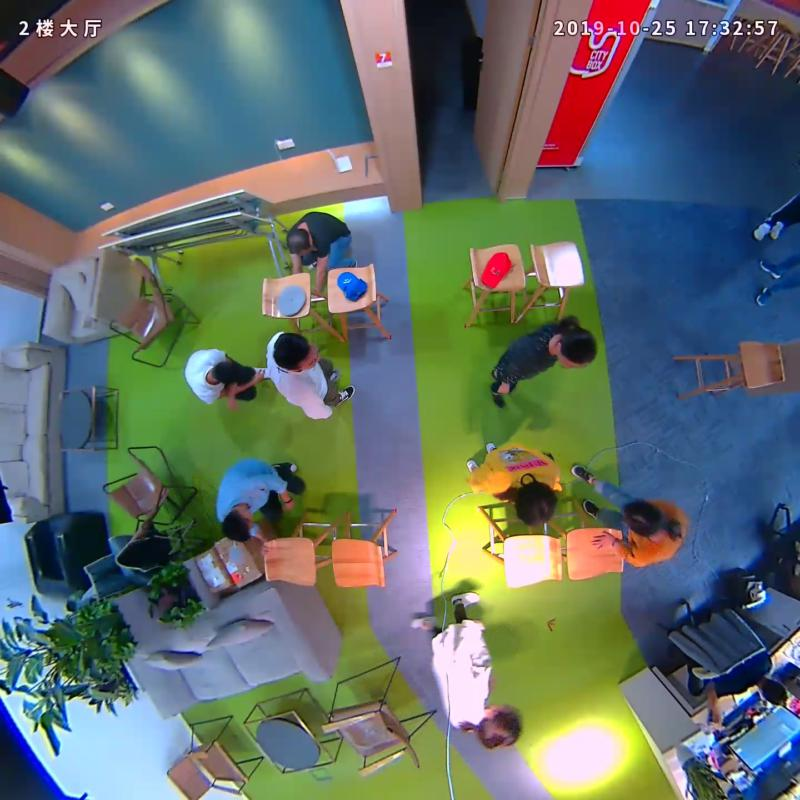head: (546, 315, 604, 371), (468, 698, 525, 754), (266, 328, 328, 374), (508, 478, 560, 528), (615, 495, 665, 542), (214, 506, 258, 542), (207, 357, 252, 391), (280, 223, 316, 258)
